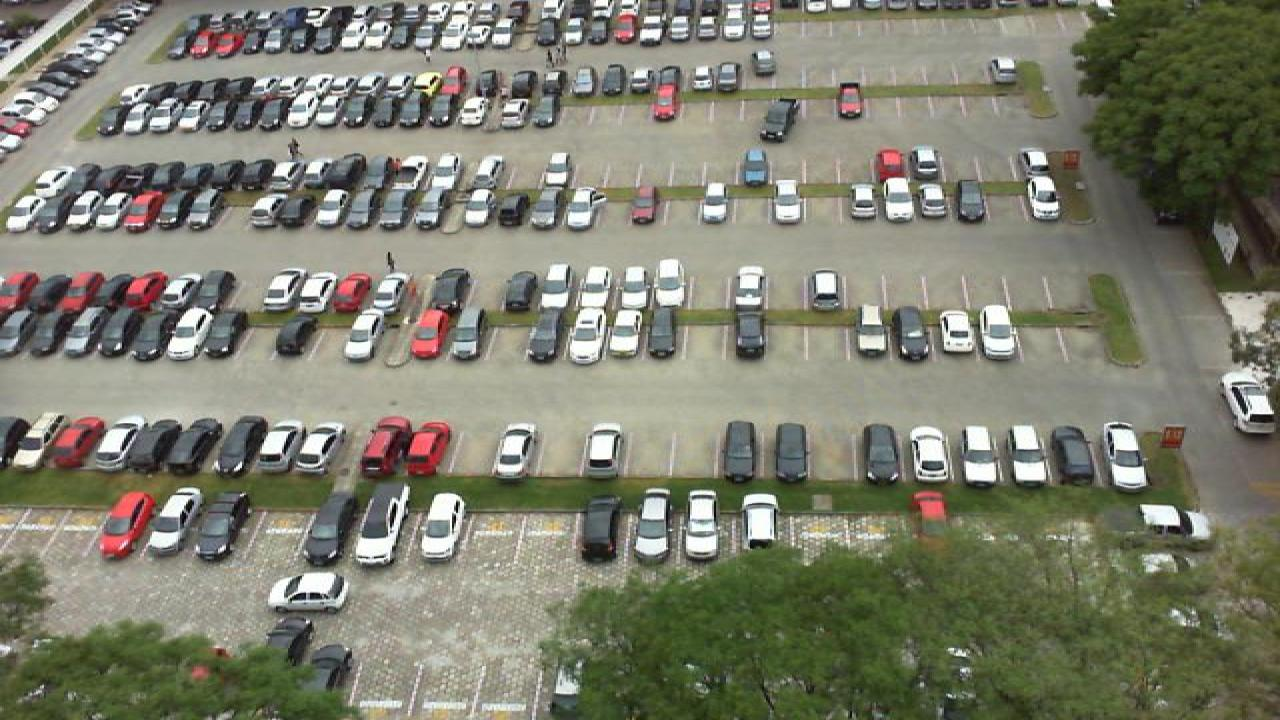Car: (354, 486, 414, 566), (302, 486, 360, 568), (98, 489, 160, 560), (146, 487, 206, 559), (1126, 503, 1216, 547), (266, 570, 352, 614), (194, 492, 248, 562), (1222, 369, 1278, 435), (356, 416, 414, 477), (416, 494, 468, 562), (212, 415, 268, 477), (1104, 422, 1150, 493), (630, 488, 674, 562), (166, 417, 220, 476), (128, 417, 182, 475), (86, 418, 144, 472), (16, 411, 68, 469), (250, 423, 306, 475), (578, 495, 620, 564), (490, 422, 538, 481), (290, 422, 344, 474), (50, 416, 104, 468), (164, 305, 212, 362), (680, 495, 720, 563), (1050, 424, 1094, 485), (580, 423, 626, 481), (910, 490, 954, 550), (974, 304, 1020, 361), (908, 424, 952, 483), (402, 423, 450, 477), (960, 424, 1000, 487), (200, 308, 248, 360), (92, 308, 140, 360), (340, 310, 386, 364), (772, 422, 812, 484), (128, 308, 176, 359), (20, 309, 68, 360), (1008, 426, 1048, 487), (718, 420, 758, 481), (56, 309, 104, 359), (862, 423, 900, 485), (740, 493, 780, 551), (526, 306, 568, 361), (1018, 168, 1062, 220), (408, 307, 450, 361), (568, 307, 606, 365), (604, 307, 644, 362), (260, 268, 306, 315), (274, 313, 320, 360), (892, 305, 930, 361), (854, 304, 892, 360), (160, 269, 206, 313), (428, 268, 470, 315), (296, 268, 338, 315), (730, 307, 768, 358), (18, 271, 62, 315), (732, 265, 770, 315), (84, 271, 128, 314), (52, 271, 96, 314), (450, 308, 486, 360), (646, 304, 680, 359), (122, 271, 164, 314), (940, 309, 976, 359), (370, 269, 408, 316), (578, 262, 612, 314), (804, 269, 844, 313), (760, 96, 798, 142), (540, 263, 574, 314), (500, 270, 538, 315), (86, 191, 126, 233), (26, 191, 66, 233), (58, 190, 96, 234), (654, 259, 688, 308), (618, 263, 652, 312), (914, 176, 950, 222), (332, 272, 370, 315), (120, 189, 158, 232), (346, 189, 384, 231), (462, 188, 498, 232), (428, 187, 464, 231), (770, 179, 804, 225), (314, 189, 352, 229), (188, 192, 226, 232), (536, 184, 570, 228), (394, 188, 428, 232), (272, 192, 310, 231), (156, 190, 192, 231), (880, 176, 912, 222), (568, 184, 600, 228), (698, 182, 730, 225), (220, 156, 256, 194), (844, 181, 876, 223), (498, 188, 532, 227), (328, 153, 362, 192), (494, 94, 530, 130), (422, 94, 458, 130), (430, 152, 464, 190), (530, 91, 564, 129), (628, 184, 660, 224), (60, 161, 94, 198), (284, 91, 318, 128), (954, 180, 986, 219), (650, 82, 680, 123), (364, 156, 400, 190), (290, 156, 324, 192), (336, 94, 370, 130), (740, 147, 770, 187), (28, 170, 74, 196), (474, 154, 508, 189), (250, 191, 284, 226), (542, 152, 574, 188), (188, 160, 224, 192), (154, 160, 190, 192), (310, 94, 342, 130), (124, 102, 156, 138), (6, 195, 36, 233), (90, 164, 124, 197), (908, 146, 940, 181), (396, 154, 428, 189), (836, 80, 864, 120), (150, 100, 182, 135), (456, 97, 492, 128), (872, 148, 904, 182), (394, 96, 426, 130), (364, 96, 396, 130), (98, 104, 130, 138), (122, 162, 158, 192), (258, 96, 288, 130), (232, 99, 262, 133), (178, 100, 208, 134), (206, 100, 236, 133), (440, 65, 468, 99), (476, 69, 506, 100), (506, 69, 536, 99), (540, 67, 568, 99), (412, 72, 444, 100), (630, 63, 656, 97), (602, 64, 626, 97), (988, 58, 1016, 86), (716, 62, 740, 93), (752, 50, 778, 78), (572, 69, 596, 99), (686, 68, 714, 92)
